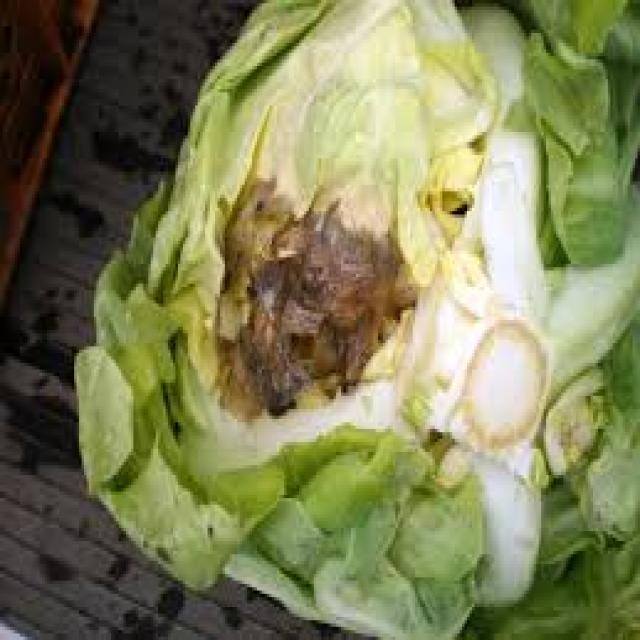biodegradable: (69, 0, 638, 637)
